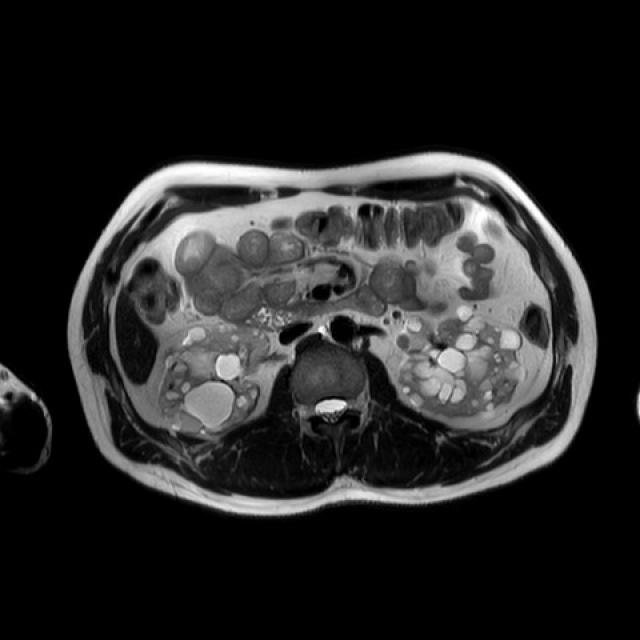sag: (156, 321, 271, 437)
sol: (395, 306, 528, 422)
